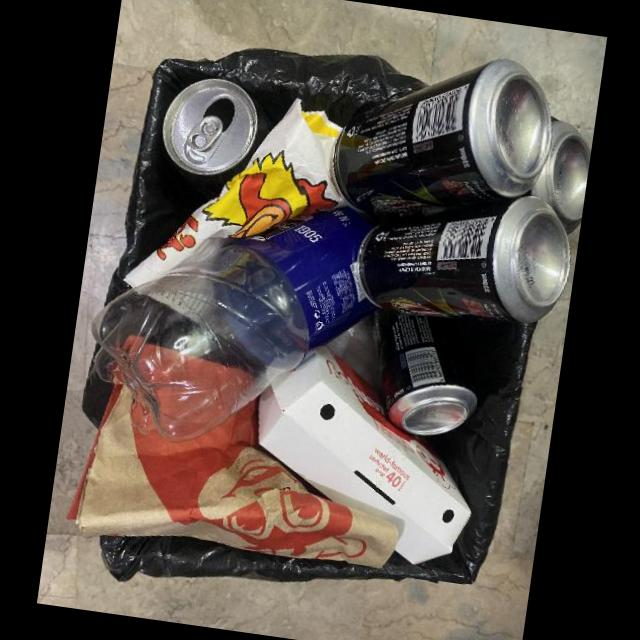carton: (260, 343, 472, 565)
chai_nhua_pet: (92, 205, 375, 442)
giay: (66, 382, 399, 570), (122, 97, 344, 288)
nhom: (329, 58, 552, 226), (355, 195, 570, 325), (370, 302, 477, 436), (163, 79, 275, 172), (532, 119, 591, 234)
